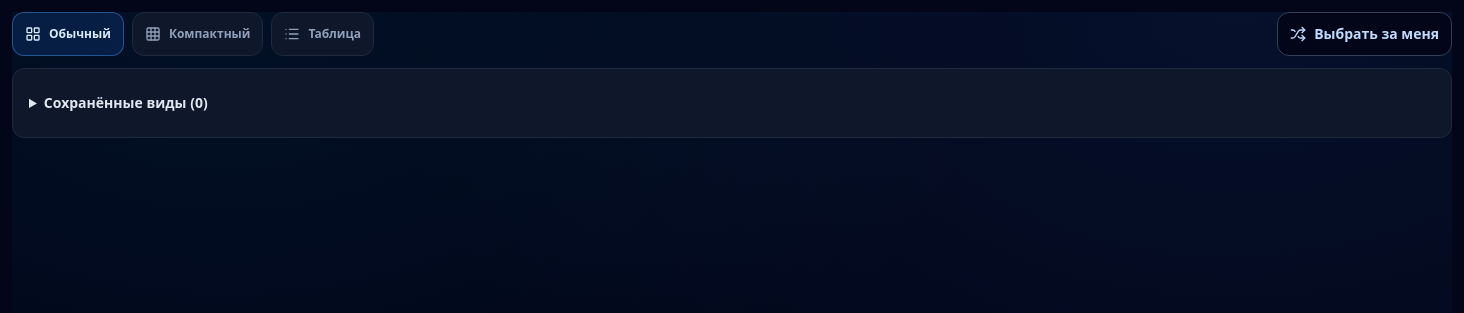
Test: localized cards and non-mutating Library tools › honestly reports in-session saving when browser storage fails
Click the heading "Сохранённые виды (0)" at {"x": 126, "y": 102}, box [44,93,208,112]
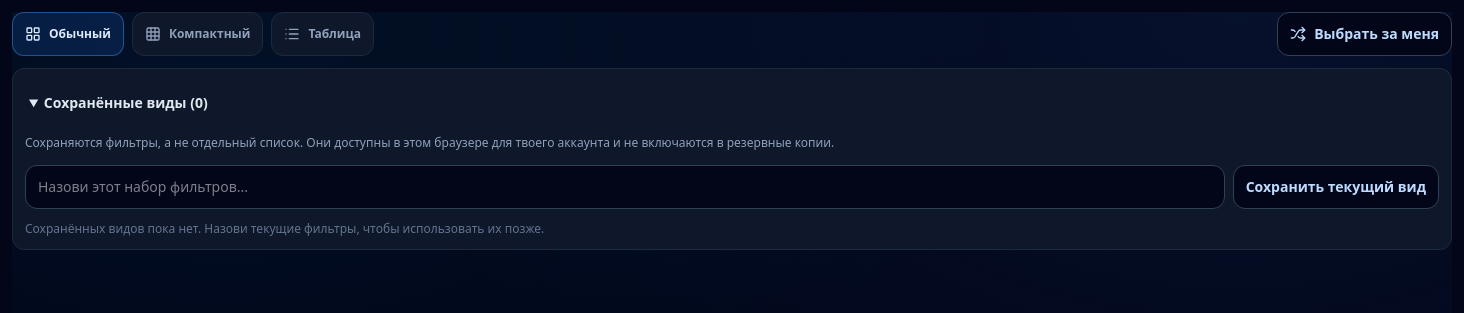
Type "Session view" into the field named "Название сохранённого вида" at {"x": 625, "y": 187}, box [25,165,1225,209]
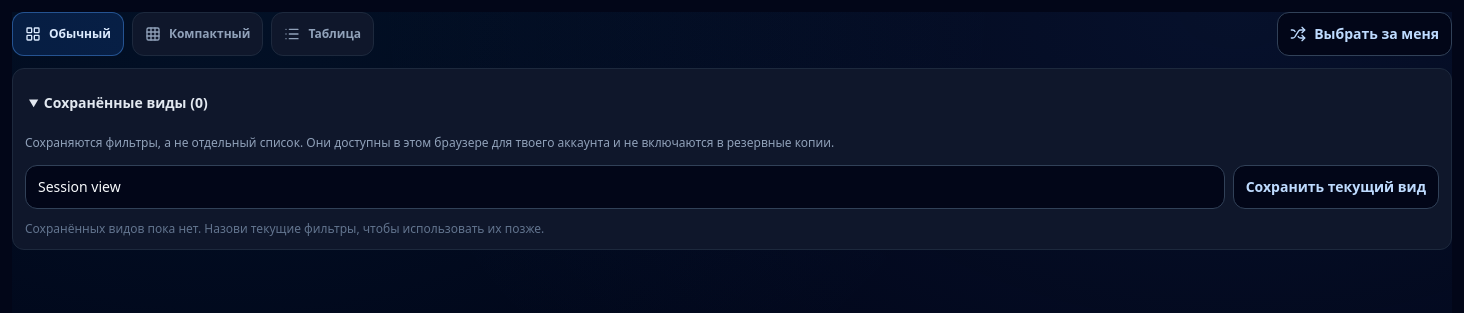
Click the button "Сохранить текущий вид" at {"x": 1336, "y": 187}, box [1233,165,1439,209]
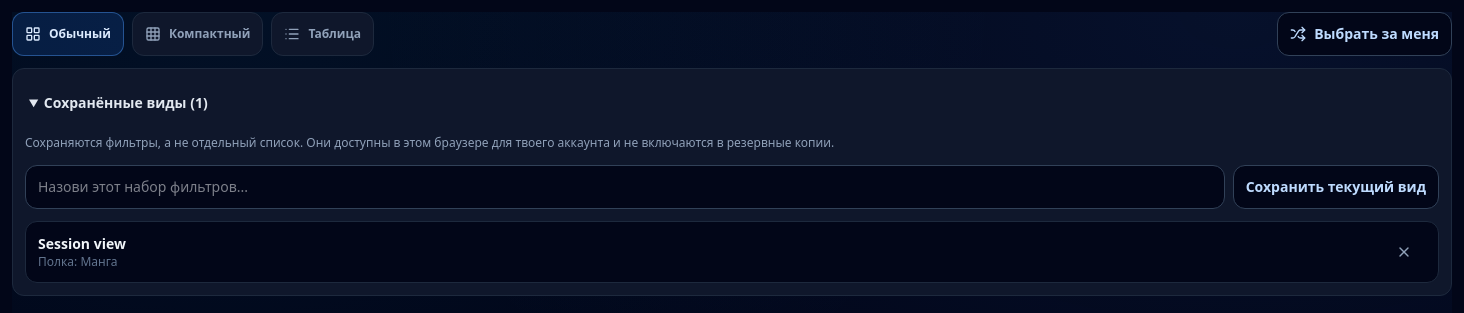
Check: the link "Session view Полка: Манга" is shown, box [38,234,126,270]
